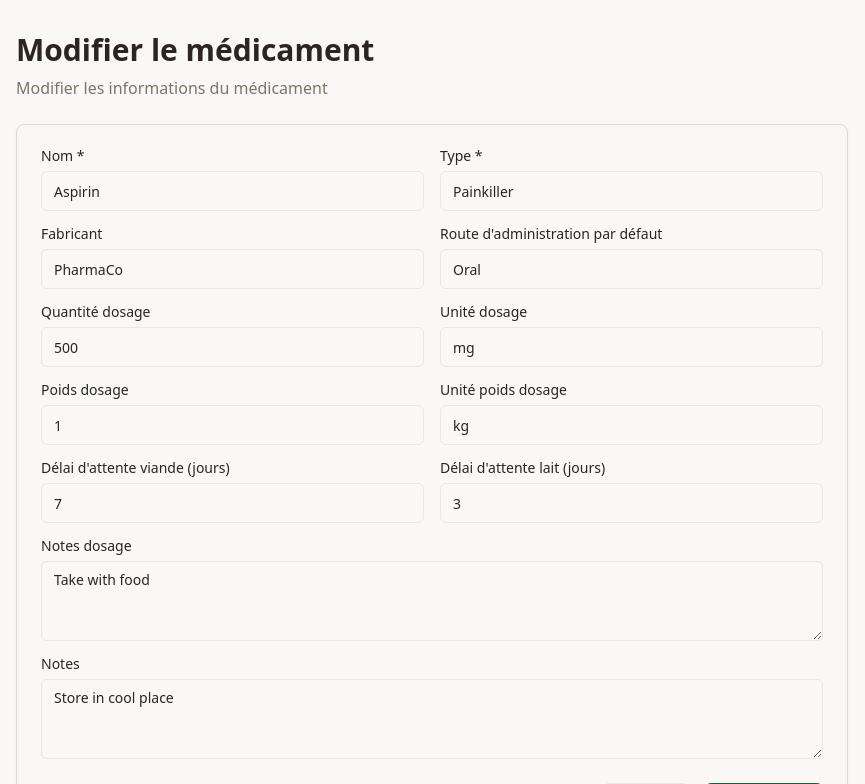
MedicamentsEditPage › shows validation errors when submitting empty form
Clear the required fields
Clear the field labelled "Nom *" at (232, 191), box [41,171,424,211]
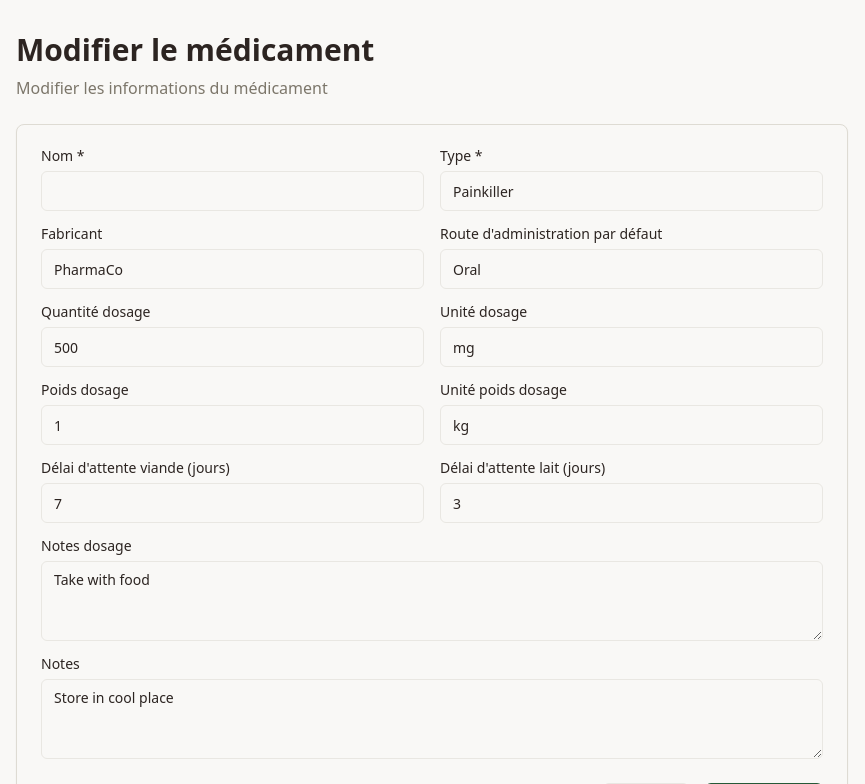
Clear the field labelled "Type *" at (632, 191), box [440,171,823,211]
(page scrolled)
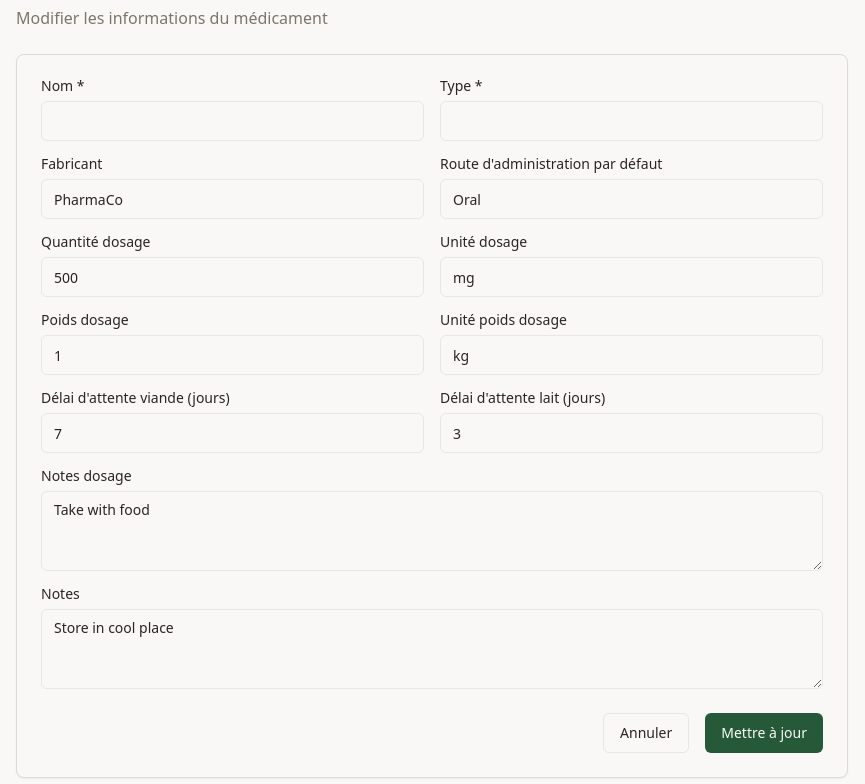
Click the button "Mettre à jour" at (764, 733), box [705,713,823,753]
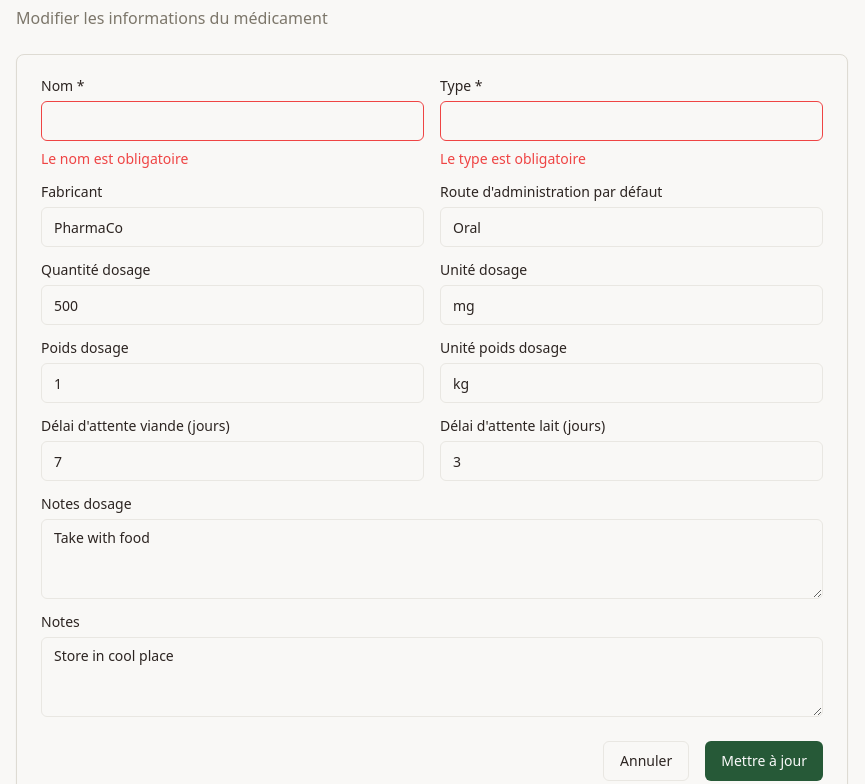
Result: the text "Le nom est obligatoire" is shown at [41,149,188,168]
Result: the text "Le type est obligatoire" is shown at [440,149,586,168]
